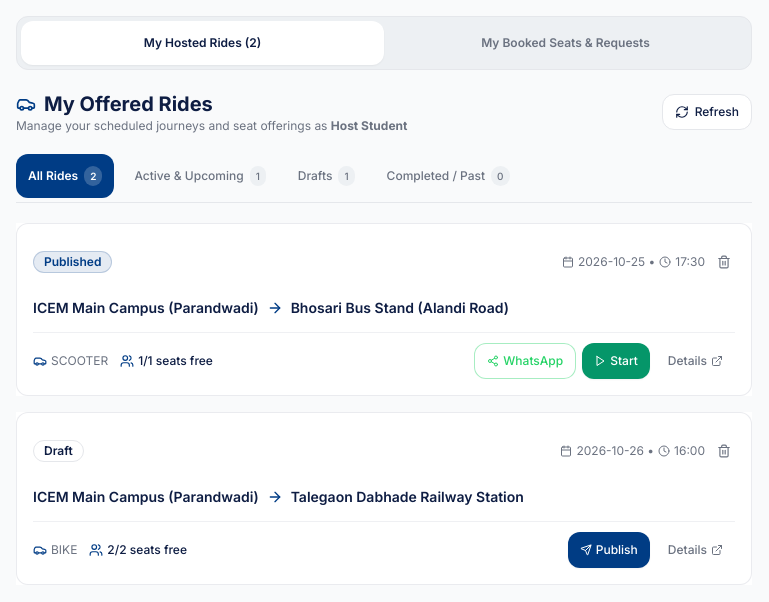
Test: MyRidesView Component (Phase 3) › filters rides when switching filter tabs
Expected: the text "Draft" is shown, [33,440,84,462]
Expected: the text "Published" is shown, [33,251,112,273]
Note: Click Drafts tab
Click the button "Drafts 1" at (326, 176), box [286,154,367,198]
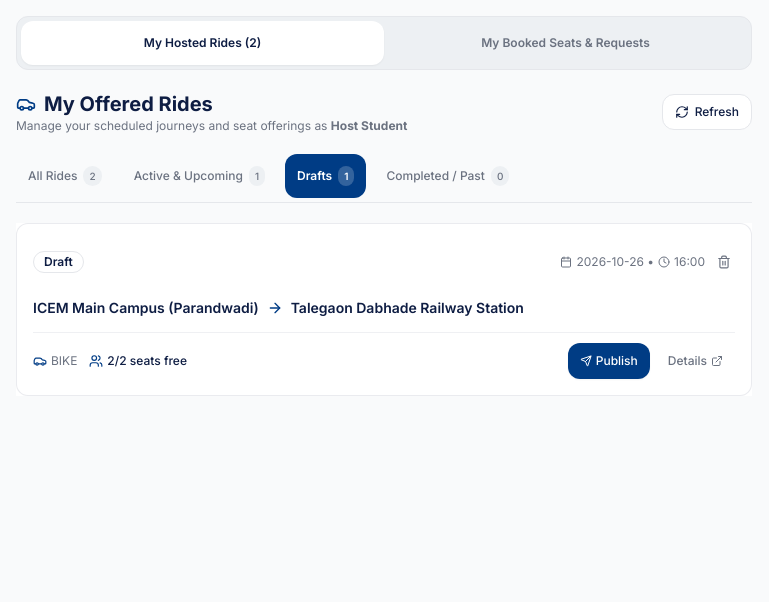
Expected: the text "Draft" is shown, [33,251,84,273]
Expected: the text "Published" is gone
